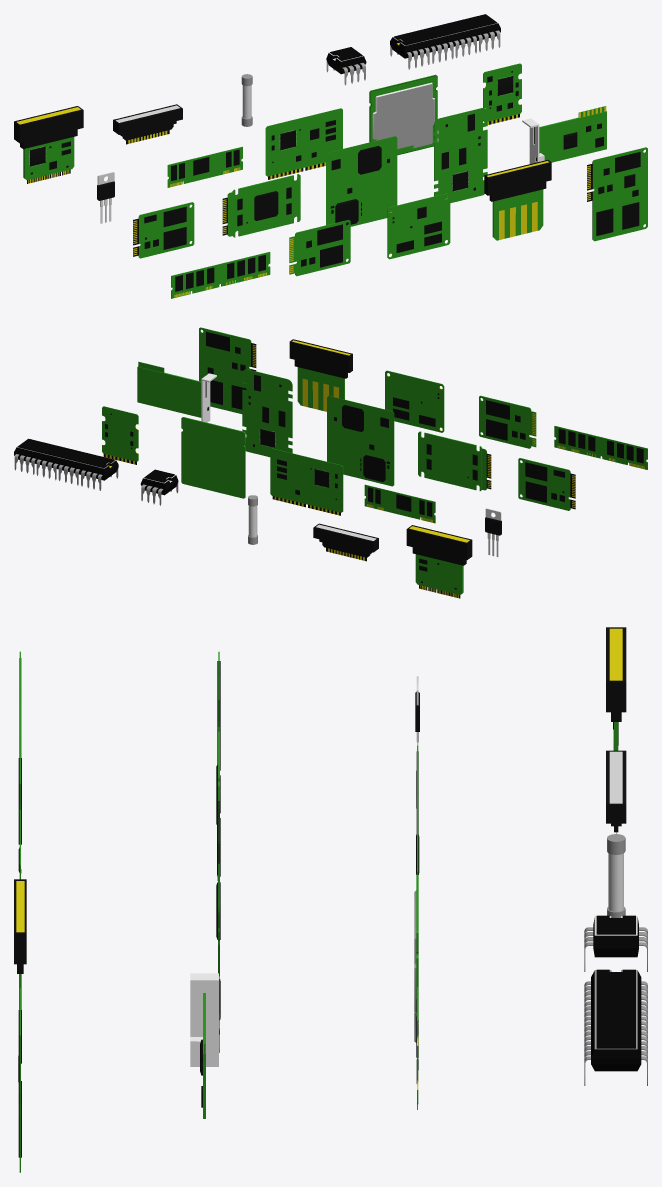
Rendered from ElectronicComponents.glb.
The picture shows the model from 3 angles, top to bottom: view 1: azimuth 30°, elevation 25°; view 2: azimuth 150°, elevation 25°; view 3: azimuth 270°, elevation 25°; orthographic projection. The views are drawn at different scales.
Parts seen in each view (by area): view 1: Cube.011, Cube.006, Cube.013, Cube.017, Cube.016, Cube.005, Cube.020, Cube.008, Cube.004, pci-e card, microchip 1.001, Cube.007 (+8 smaller); view 2: Cube.011, Cube.017, Cube.013, Cube.016, Cube.006, Cube.020, Cube.008, Cube.005, pci-e card, Cube.004, microchip 1.001, Cube.007 (+8 smaller); view 3: microchip 1.001, pci-e card, microchip 1, Cube.020, Cube.021, Cylinder, Cube.005.
Boxes of the visible parts, <box> form: Cube.011: <box>326,136,397,226</box>; Cube.006: <box>587,147,647,241</box>; Cube.013: <box>434,108,487,203</box>; Cube.017: <box>369,74,437,155</box>; Cube.016: <box>265,108,342,179</box>; Cube.005: <box>484,160,551,240</box>; Cube.020: <box>14,106,83,183</box>; Cube.008: <box>222,174,300,237</box>; Cube.004: <box>387,193,450,259</box>; pci-e card: <box>522,106,606,163</box>; microchip 1.001: <box>390,14,500,69</box>; Cube.007: <box>133,202,194,258</box>; Cube.011: <box>327,396,394,486</box>; Cube.017: <box>181,417,245,498</box>; Cube.013: <box>242,369,292,457</box>; Cube.016: <box>270,448,343,515</box>; Cube.006: <box>199,327,256,413</box>; Cube.020: <box>406,525,472,598</box>; Cube.008: <box>418,431,491,491</box>; Cube.005: <box>289,339,352,411</box>; pci-e card: <box>137,361,216,422</box>; Cube.004: <box>385,370,444,432</box>; microchip 1.001: <box>14,438,118,490</box>; Cube.007: <box>518,458,575,510</box>; microchip 1.001: <box>584,969,647,1085</box>; pci-e card: <box>190,973,218,1118</box>; microchip 1: <box>584,915,647,971</box>; Cube.020: <box>606,627,626,750</box>; Cube.021: <box>606,750,626,833</box>; Cylinder: <box>607,834,625,917</box>; Cube.005: <box>14,879,26,1009</box>.
Size of the model in its own units: 24.94 by 5.04 by 15.96.
